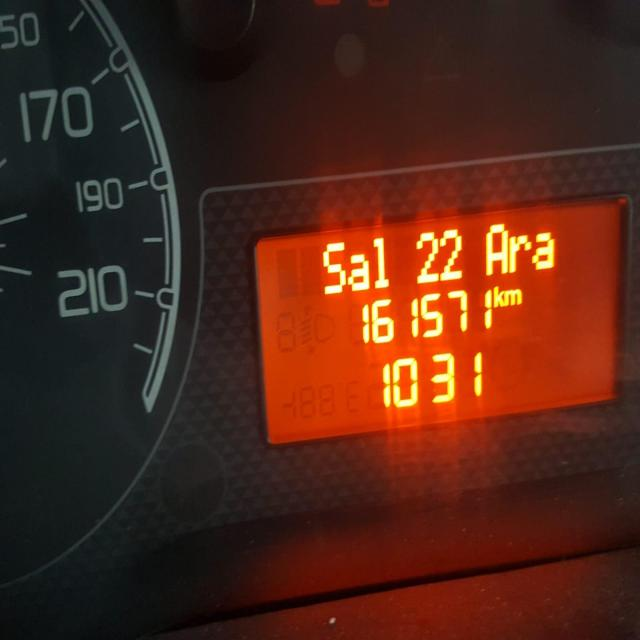odometer: (252, 190, 630, 456)
